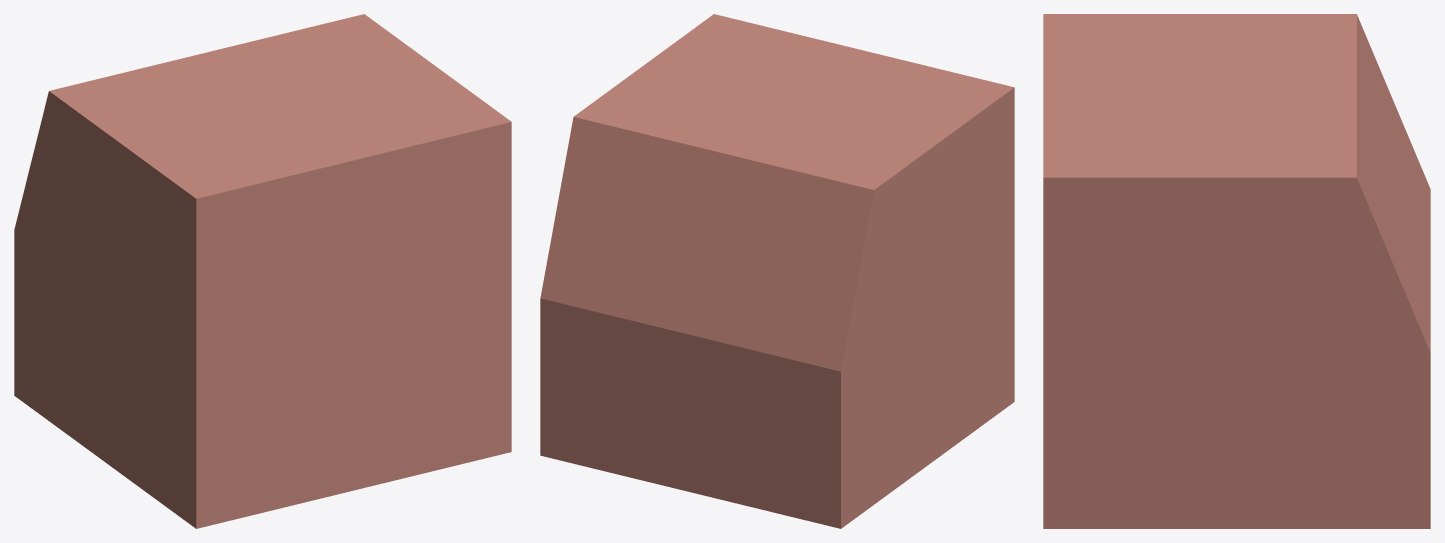
Rendered from BasicCubeAngled_10x10x10.fbx.
The picture shows the model from 3 angles, left to right: view 1: azimuth 30°, elevation 25°; view 2: azimuth 150°, elevation 25°; view 3: azimuth 270°, elevation 25°; orthographic projection. The views are drawn at different scales.
Parts seen in each view (by area): view 1: BasicCubeAngled10x10.004; view 2: BasicCubeAngled10x10.004; view 3: BasicCubeAngled10x10.004.
Boxes of the visible parts, x1=… form: BasicCubeAngled10x10.004: x1=14, y1=14, x2=511, y2=528; BasicCubeAngled10x10.004: x1=540, y1=14, x2=1014, y2=528; BasicCubeAngled10x10.004: x1=1043, y1=14, x2=1430, y2=528.
Size of the model in its own units: 1000 by 1000 by 1000.
